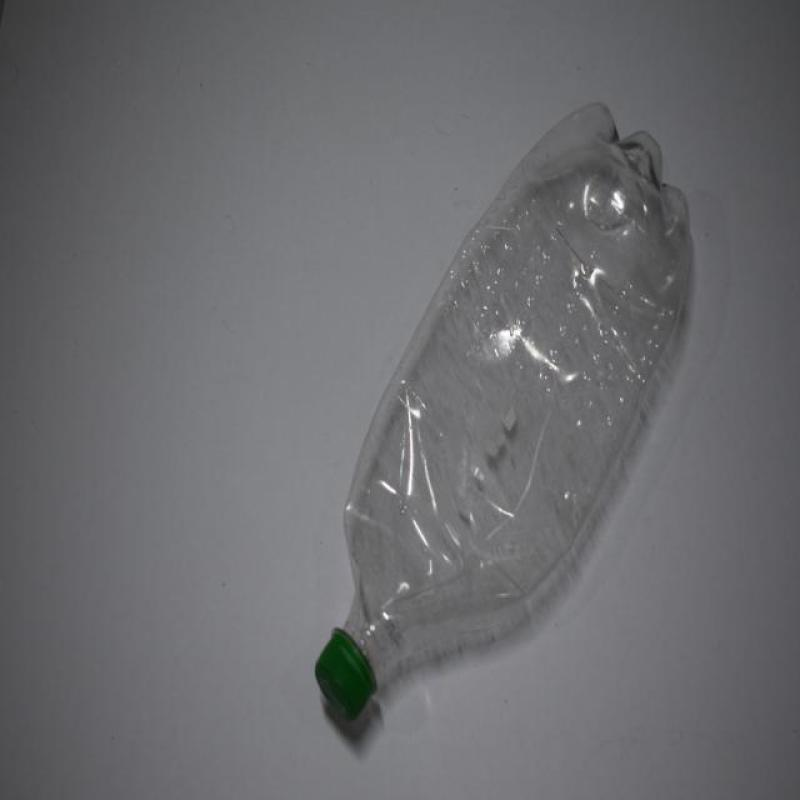botella: (316, 105, 694, 721)
